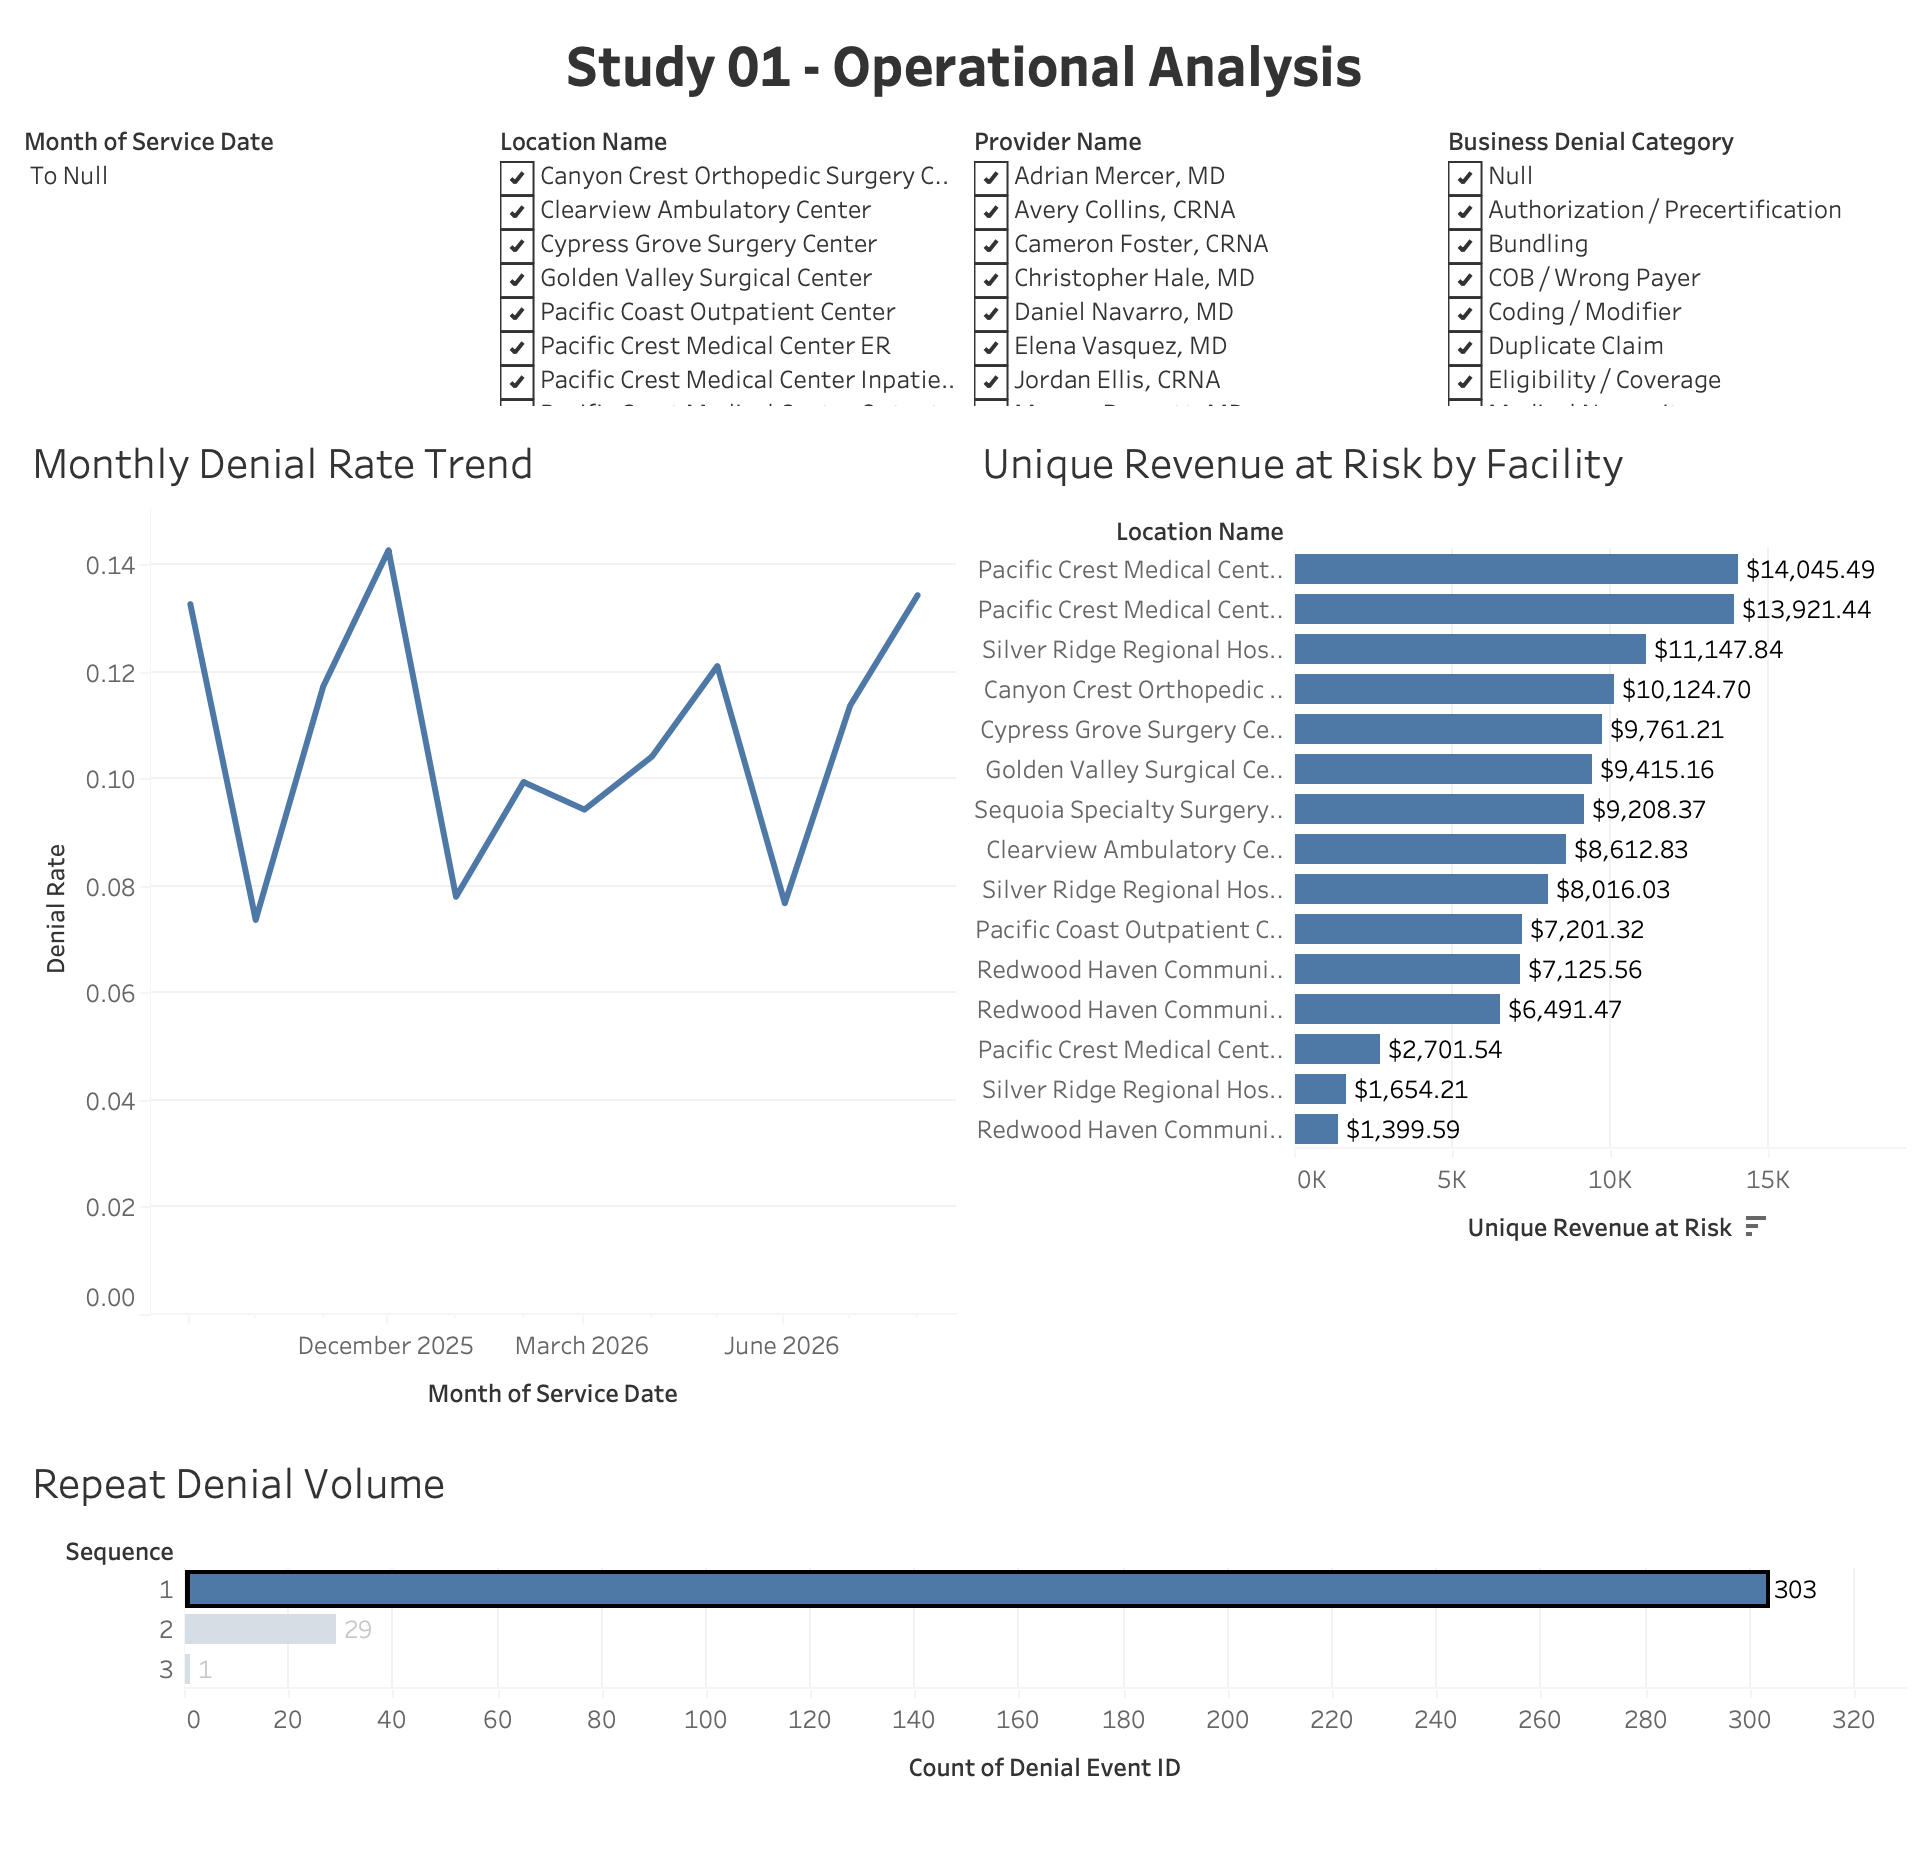

What the dashboard file says about the page in this screenshot:
{"tool":"tableau","page":{"name":"Operational Analysis","canvas":[1000,1000],"units":"permille","ordinal":1},"visuals":[{"type":"text","box":[8.3,8.6,983.4,52.6]},{"type":"filter","title":"Monthly Denials","param":"[federated.1i9lzmo18komtd14ppbqi0wcqm1b].[tmn:Service Date:qk]","box":[8.3,61,246.6,160.4]},{"type":"filter","title":"Monthly Denials","param":"[federated.1i9lzmo18komtd14ppbqi0wcqm1b].[none:Location Name:nk]","box":[254.9,61,245.6,160.4]},{"type":"filter","title":"Monthly Denials","param":"[federated.1i9lzmo18komtd14ppbqi0wcqm1b].[none:Provider Name:nk]","box":[500.5,61,245.6,160.4]},{"type":"filter","title":"Monthly Denials","param":"[federated.1i9lzmo18komtd14ppbqi0wcqm1b].[none:Business Denial Category:nk]","box":[746.1,61,245.6,160.4]},{"type":"worksheet","title":"Monthly Denials","mark":"Automatic","rows":["Calculation_0178534142013470"],"cols":["Service Date"],"box":[8.3,221.9,491.7,544.9]},{"type":"worksheet","title":"Facility Exposure","mark":"Automatic","rows":["Location Name"],"cols":["Unique Revenue at Risk"],"box":[500,221.9,491.7,544.9]},{"type":"worksheet","title":"Repeat Denial","mark":"Automatic","rows":["Sequence"],"cols":["Denial Event ID"],"box":[8.3,766.8,983.4,224.7]}]}

Visuals, with their boxes on the dashboard's canvas, which has no fixed pixel size, in thousandths of its width and height (x1, y1, x2, y2). These are canvas units, not pixel positions in the 1930x1870 screenshot, which may show the page scaled, cropped or inside an application window:
text: region(8, 9, 992, 61)
"Monthly Denials" filter: region(8, 61, 255, 221)
"Monthly Denials" filter: region(255, 61, 500, 221)
"Monthly Denials" filter: region(500, 61, 746, 221)
"Monthly Denials" filter: region(746, 61, 992, 221)
"Monthly Denials" worksheet: region(8, 222, 500, 767)
"Facility Exposure" worksheet: region(500, 222, 992, 767)
"Repeat Denial" worksheet: region(8, 767, 992, 992)
